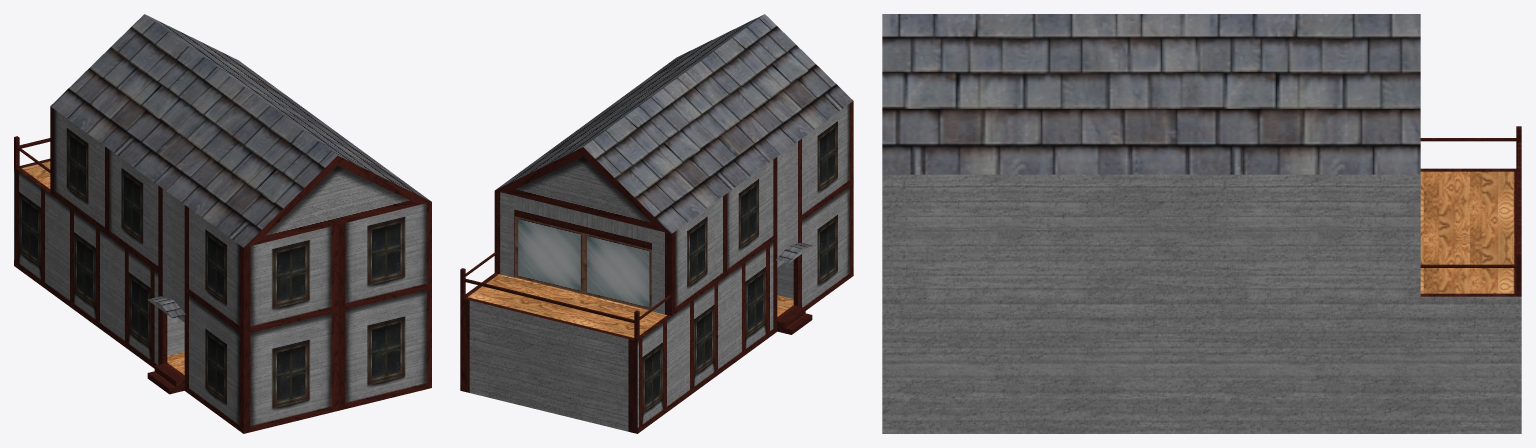
Rendered from houseA.gltf.
3 renders of one model, left to right at view 1: azimuth 30°, elevation 25°; view 2: azimuth 150°, elevation 25°; view 3: azimuth 270°, elevation 25°, orthographic. The views are drawn at different scales.
Parts seen in each view (by area): view 1: houseA; view 2: houseA; view 3: houseA.
Part boxes in pixels (x1=…): houseA: x1=14, y1=14, x2=431, y2=433; houseA: x1=460, y1=14, x2=853, y2=433; houseA: x1=882, y1=14, x2=1521, y2=433.
Size of the model in its own units: 10.94 by 13.12 by 21.38.
Materials: 26 (26 with a texture image).
